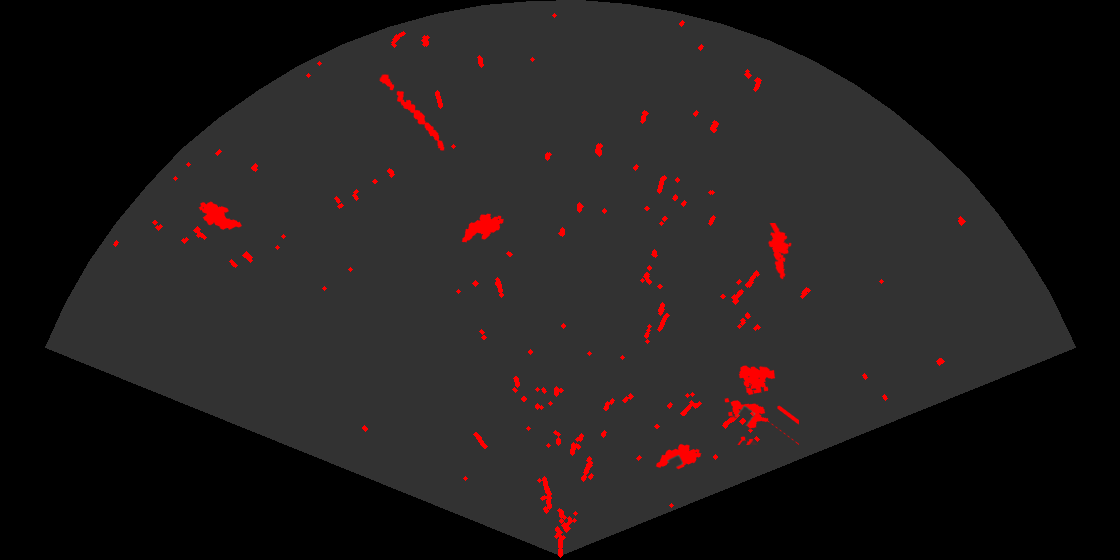AUV: (197, 200, 244, 231), (460, 212, 505, 244), (654, 442, 703, 471)
cage: (723, 364, 799, 445)
chain: (378, 73, 446, 152)
frogman: (766, 223, 793, 282)
